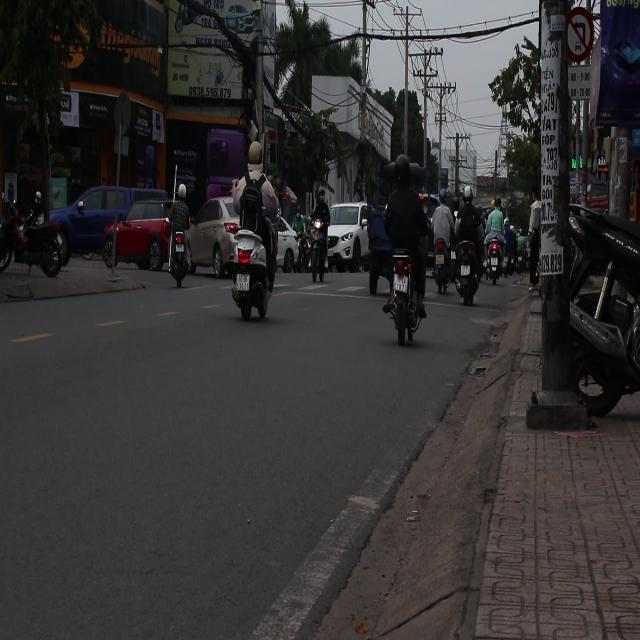car: (50, 187, 168, 260), (187, 195, 240, 278), (327, 203, 370, 270), (275, 216, 303, 274)
motorbike: (551, 198, 640, 423), (1, 193, 70, 277), (225, 218, 273, 321), (383, 248, 427, 344), (457, 240, 483, 307), (309, 212, 325, 290), (432, 238, 452, 296), (484, 238, 503, 286)
